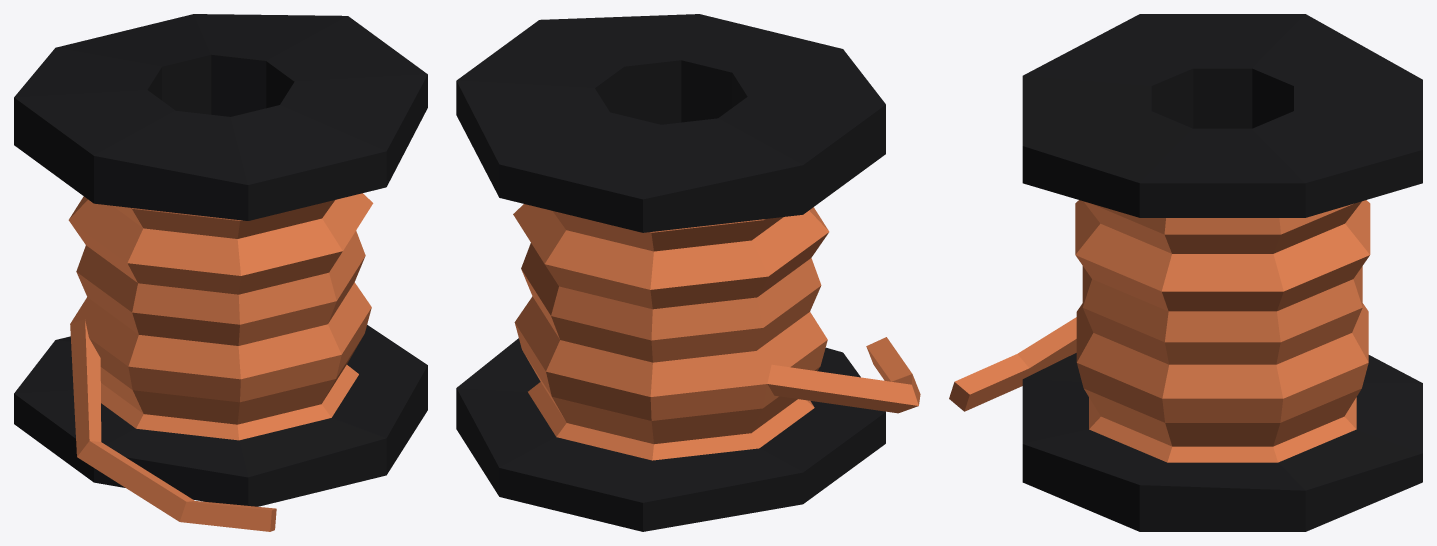
Rendered from SM_Copper_Coil.gltf.
The picture shows the model from 3 angles, left to right: view 1: azimuth 30°, elevation 25°; view 2: azimuth 150°, elevation 25°; view 3: azimuth 270°, elevation 25°; orthographic projection. The views are drawn at different scales.
Parts seen in each view (by area): view 1: SM_Copper_Coil; view 2: SM_Copper_Coil; view 3: SM_Copper_Coil.
Part boxes in pixels (left/top/right/bottom): SM_Copper_Coil: left=14, top=14, right=427, bottom=531; SM_Copper_Coil: left=456, top=14, right=920, bottom=531; SM_Copper_Coil: left=949, top=14, right=1422, bottom=531.
Size of the model in its own units: 0.1877 by 0.1682 by 0.2071.
1 material, 1 textured.
